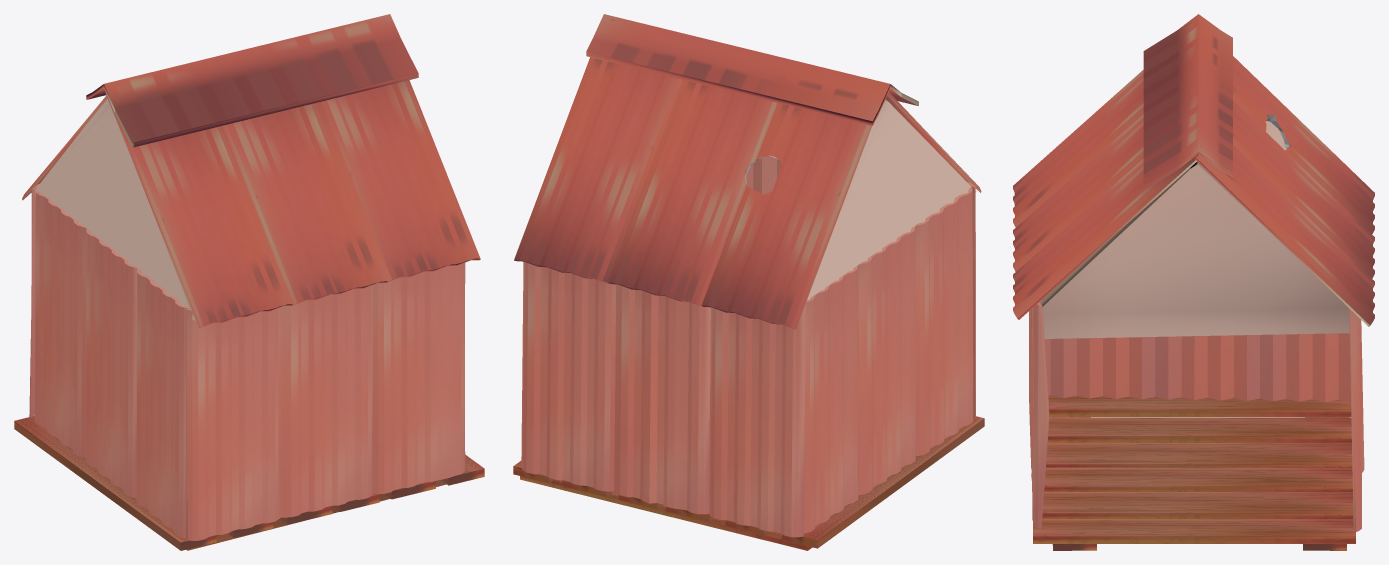
File: casaPerroColorblend.glb
The picture shows the model from 3 angles, left to right: view 1: azimuth 30°, elevation 25°; view 2: azimuth 150°, elevation 25°; view 3: azimuth 270°, elevation 25°; orthographic projection. The views are drawn at different scales.
Parts seen in each view (by area): view 1: Cube.002, Cube.005, Cube.008, Cube.007, Cube.006, Cube.014, Cube.004, Cube.001; view 2: Cube.001, Cube.004, Cube.008, Cube.007, Cube.006, Cube.014, Cube.002, Cube.005; view 3: Cube.014, Cube, Cube.001, Cube.008, Cube.005, Cube.007, Cube.002, Cube.004.
Part boxes in pixels (bbox=[...]): Cube.002: bbox=[185, 263, 465, 540]; Cube.005: bbox=[105, 80, 480, 328]; Cube.008: bbox=[35, 189, 189, 538]; Cube.007: bbox=[86, 14, 418, 147]; Cube.006: bbox=[35, 99, 195, 320]; Cube.014: bbox=[14, 416, 484, 550]; Cube.004: bbox=[29, 183, 39, 417]; Cube.001: bbox=[22, 96, 107, 200]; Cube.001: bbox=[514, 57, 872, 329]; Cube.004: bbox=[521, 261, 805, 537]; Cube.008: bbox=[803, 187, 973, 533]; Cube.007: bbox=[586, 14, 918, 125]; Cube.006: bbox=[807, 99, 976, 300]; Cube.014: bbox=[513, 416, 984, 550]; Cube.002: bbox=[746, 156, 975, 417]; Cube.005: bbox=[885, 92, 981, 192]; Cube.014: bbox=[1033, 395, 1355, 550]; Cube: bbox=[1041, 161, 1349, 338]; Cube.001: bbox=[1195, 56, 1374, 326]; Cube.008: bbox=[1045, 333, 1350, 402]; Cube.005: bbox=[1013, 70, 1196, 319]; Cube.007: bbox=[1143, 14, 1232, 190]; Cube.002: bbox=[1029, 300, 1049, 528]; Cube.004: bbox=[1349, 309, 1364, 532].
Bounding box in the file's own units: 15.45 × 19.96 × 16.45.
Materials: 5 (4 with a texture image).
